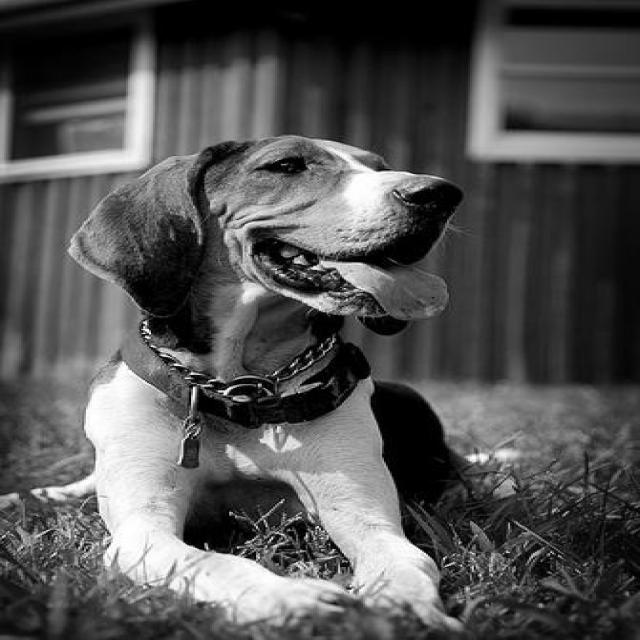laying down: (0, 128, 497, 640)
